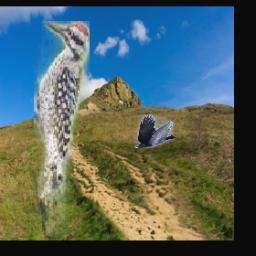Crow: (134, 115, 175, 149)
Woodpecker: (35, 21, 91, 237)
